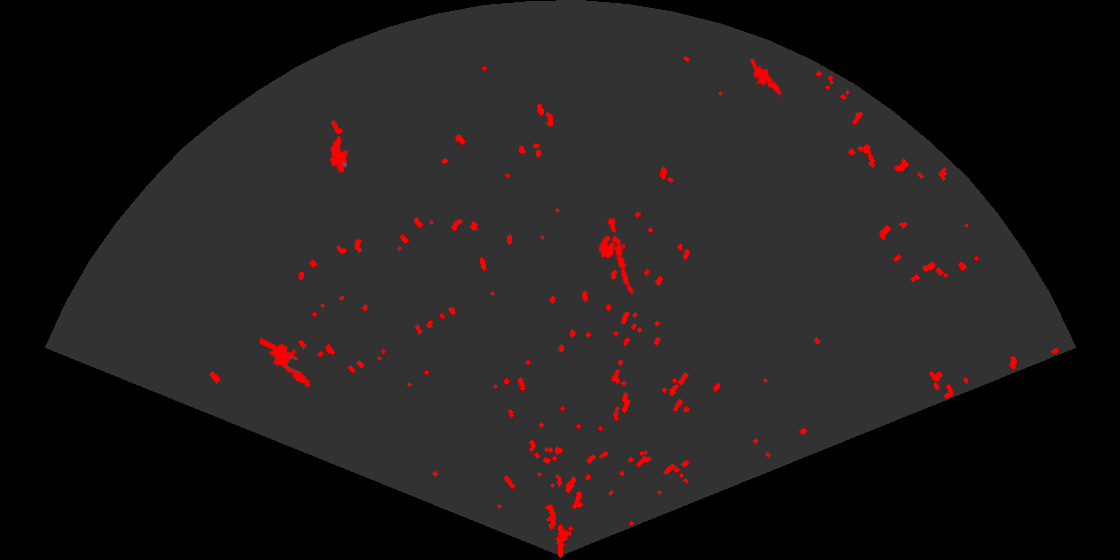AUV: (328, 134, 349, 175)
ball: (597, 233, 627, 262)
chain: (605, 214, 635, 296)
frogman: (260, 336, 312, 389), (748, 59, 784, 102)
